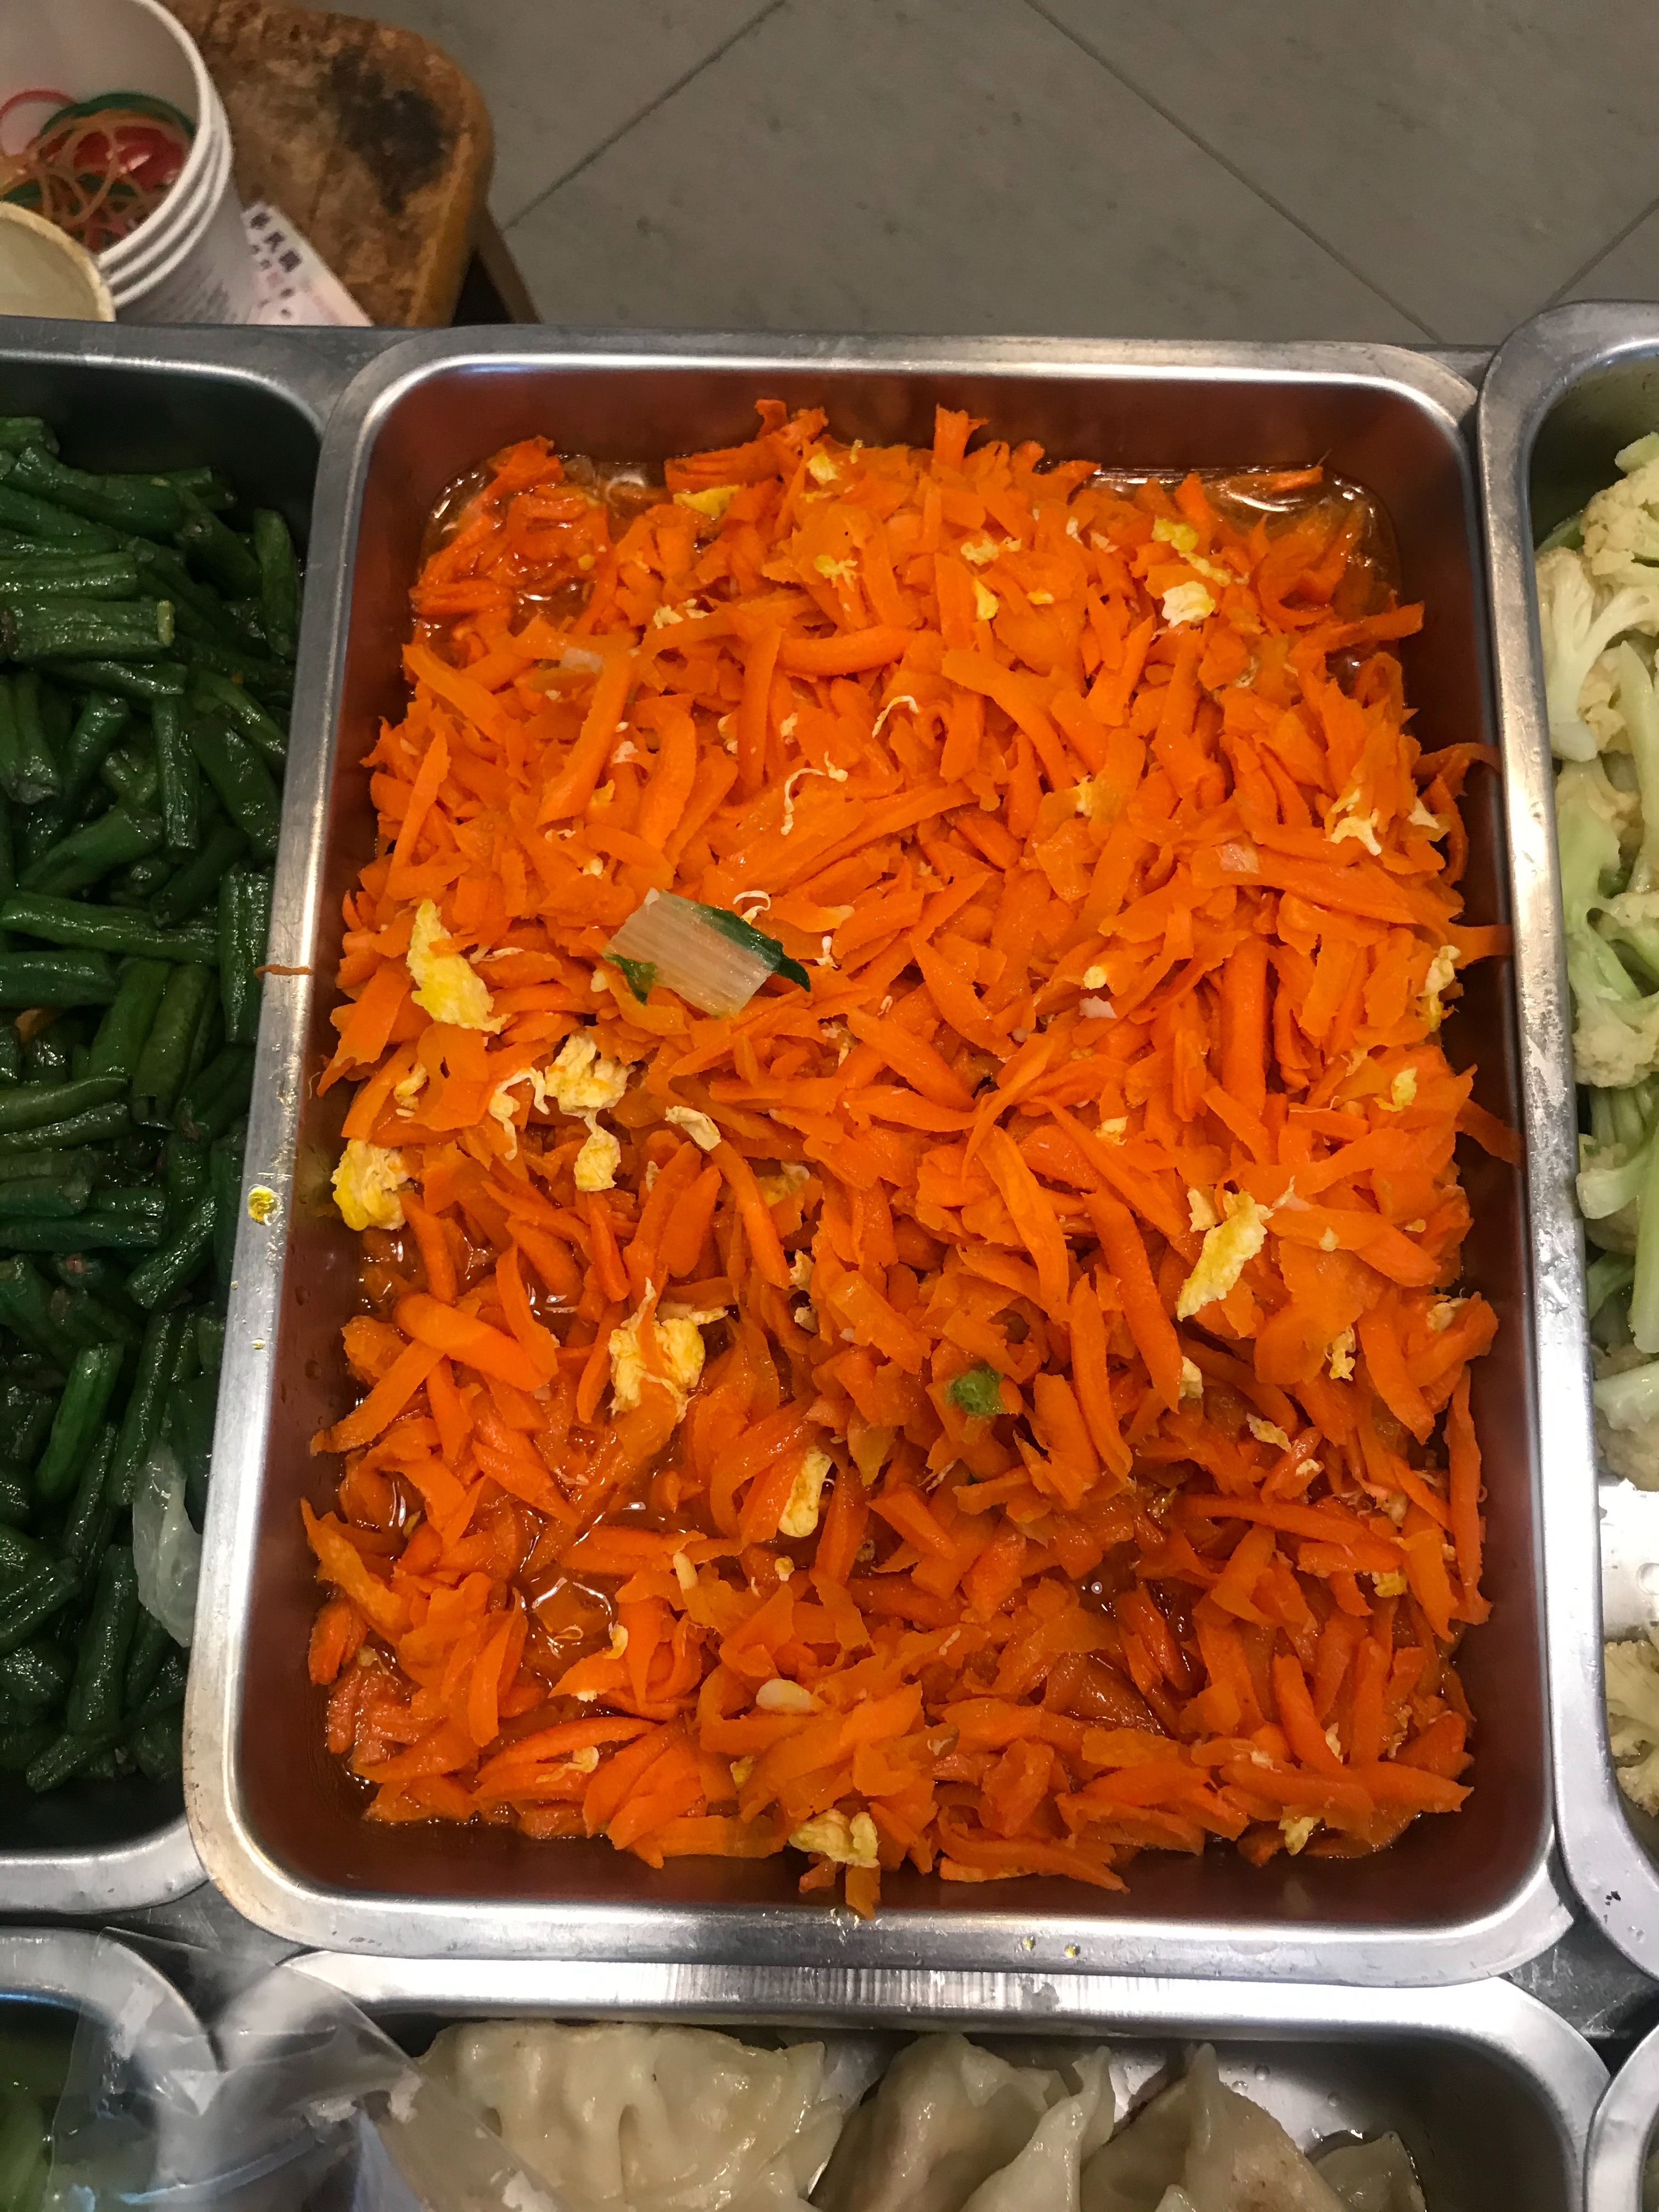carrot_eggs: (373, 455, 1429, 1851)
fried_dumplings: (404, 2038, 1335, 2212)
